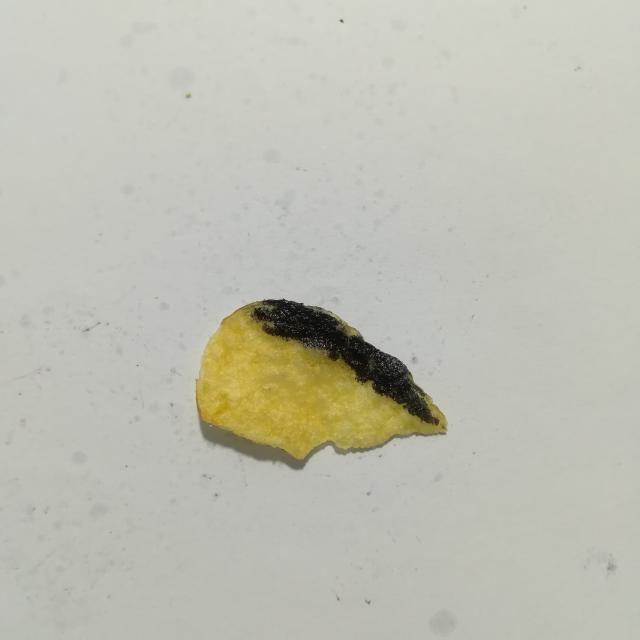chip: (196, 299, 447, 458)
damaged: (248, 299, 444, 426)
